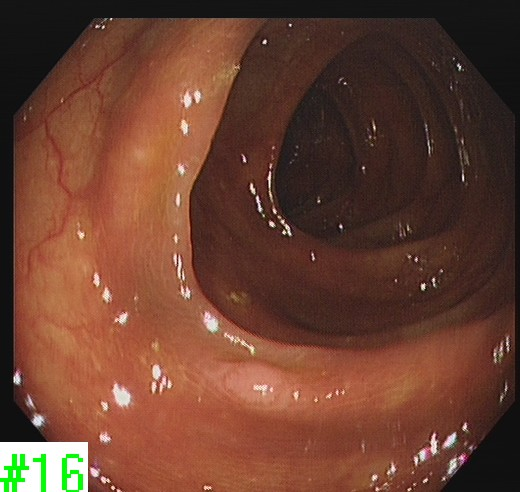adenoma: (213, 356, 301, 413)
